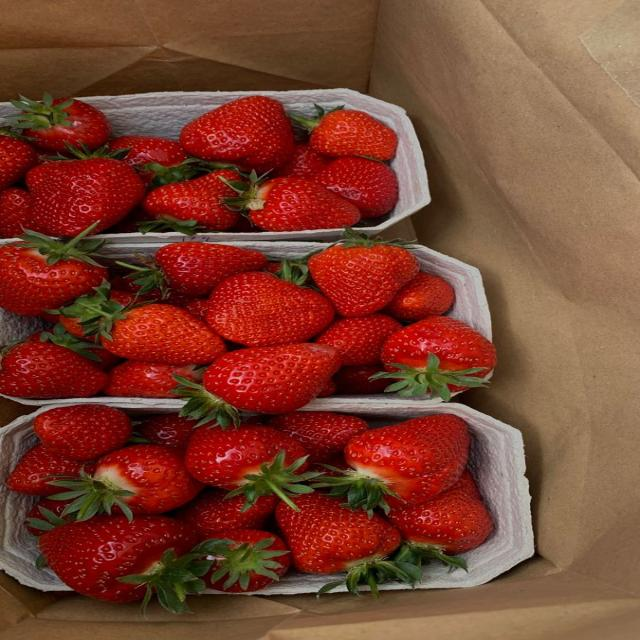strawberry: (39, 516, 211, 612), (316, 414, 470, 513), (276, 493, 421, 595), (176, 343, 340, 426), (61, 287, 226, 364), (50, 444, 201, 520), (185, 425, 317, 506), (387, 470, 493, 567), (26, 151, 146, 236), (377, 316, 496, 401), (309, 230, 419, 316), (207, 272, 334, 346), (0, 228, 107, 315), (180, 96, 293, 172), (227, 173, 361, 231), (140, 170, 240, 234), (155, 243, 267, 298), (0, 342, 108, 398), (9, 94, 109, 152), (204, 528, 291, 593), (293, 106, 397, 160), (34, 404, 131, 461), (175, 487, 278, 539), (313, 157, 398, 218), (269, 412, 368, 462), (314, 314, 402, 365), (27, 323, 120, 371), (6, 445, 95, 495), (109, 135, 197, 185), (111, 258, 191, 306), (103, 360, 201, 398), (384, 272, 455, 321), (0, 128, 37, 189), (275, 141, 331, 178), (136, 414, 196, 448), (74, 281, 137, 313), (25, 498, 74, 535), (333, 364, 388, 394), (0, 187, 30, 237), (103, 206, 154, 233), (309, 453, 349, 475), (228, 215, 264, 233), (183, 299, 208, 322), (317, 379, 336, 397), (264, 261, 281, 273)
